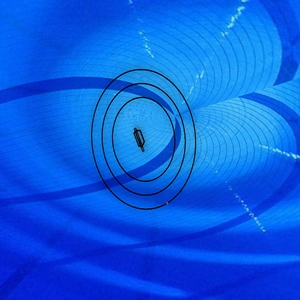circle: (88, 65, 202, 214)
submarine: (127, 127, 152, 158)
